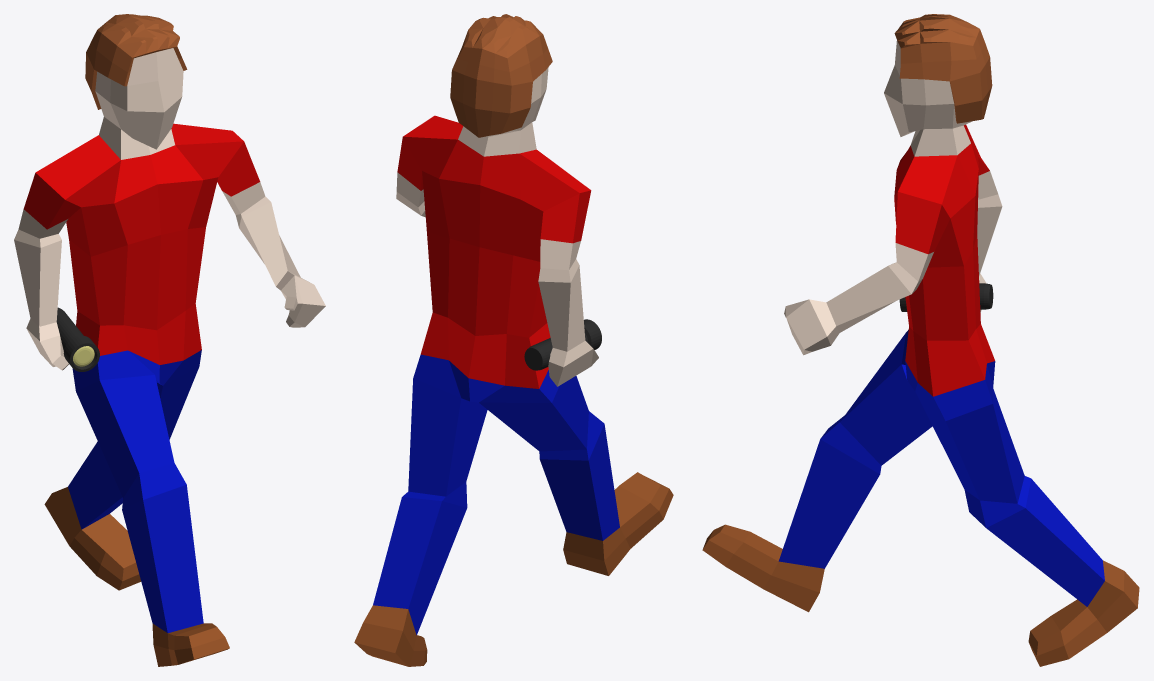
Rendered from Human_walking_25.fbx.
The picture shows the model from 3 angles, left to right: view 1: azimuth 30°, elevation 25°; view 2: azimuth 150°, elevation 25°; view 3: azimuth 270°, elevation 25°; orthographic projection.
Visible parts, largest first — view 1: Person.001, Cylinder.001; view 2: Person.001, Cylinder.001; view 3: Person.001.
Part boxes in pixels (x1,y1,x2,y2): Person.001: (14,14,325,666); Cylinder.001: (56,307,99,371); Person.001: (354,14,673,666); Cylinder.001: (524,319,601,370); Person.001: (702,14,1139,666).
Size of the model in its own units: 0.5779 by 1.55 by 0.9908.
